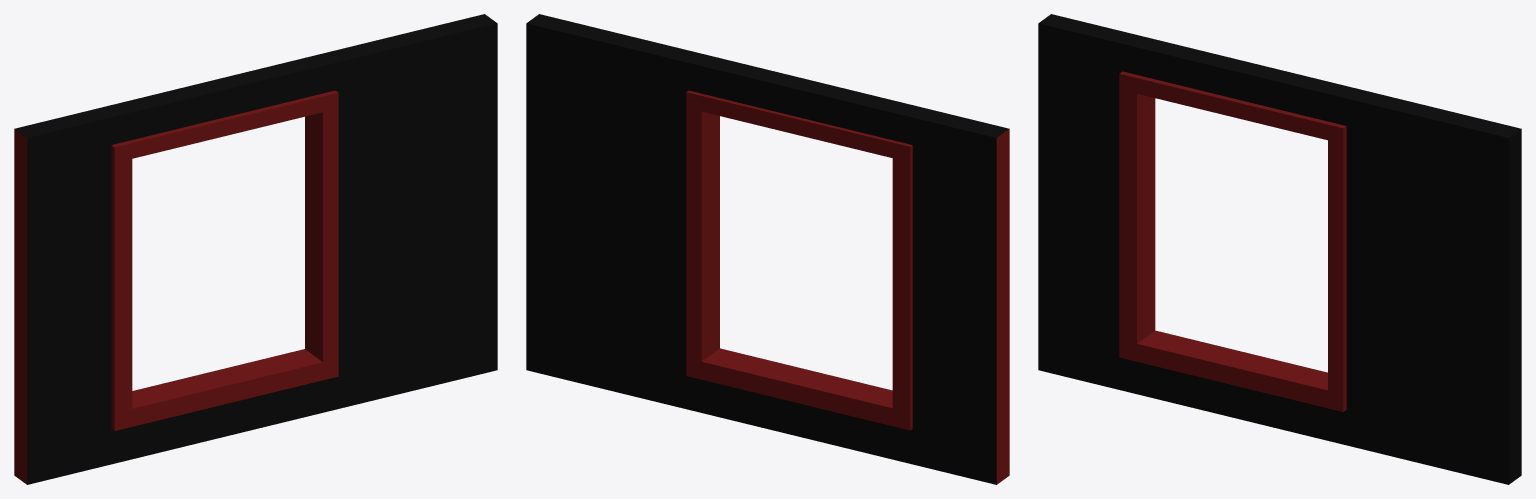
The model's file is Back W Wall 3 - Right_Left.FBX.
3 renders of one model, left to right at view 1: azimuth 30°, elevation 25°; view 2: azimuth 150°, elevation 25°; view 3: azimuth 330°, elevation 25°, orthographic.
Parts seen in each view (by area): view 1: Object002; view 2: Object002; view 3: Object002.
Part boxes in pixels (x1=…): Object002: x1=14, y1=14, x2=497, y2=484; Object002: x1=526, y1=14, x2=1009, y2=484; Object002: x1=1038, y1=14, x2=1521, y2=484.
Size of the model in its own units: 21.28 by 15 by 1.43.
